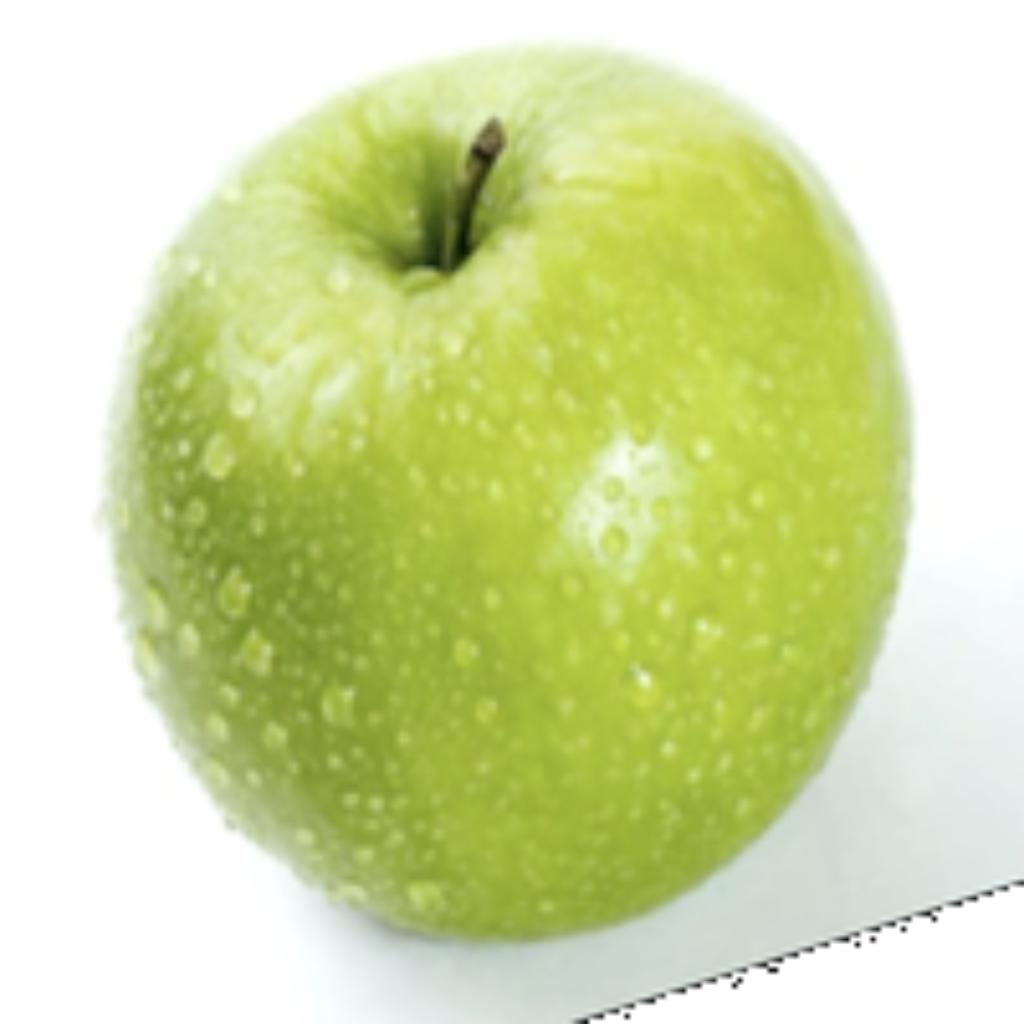apple: (87, 31, 916, 1014)
